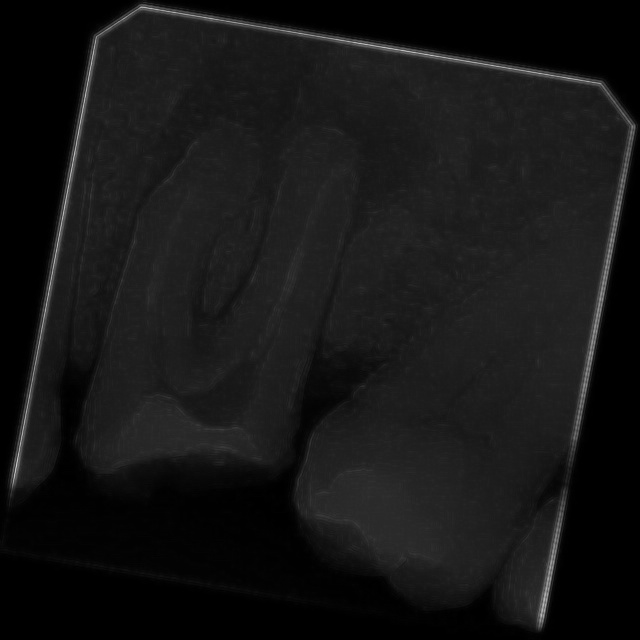Class 1- complete endodontic treatment: (54, 68, 384, 516)
cavity: (292, 114, 628, 628)
